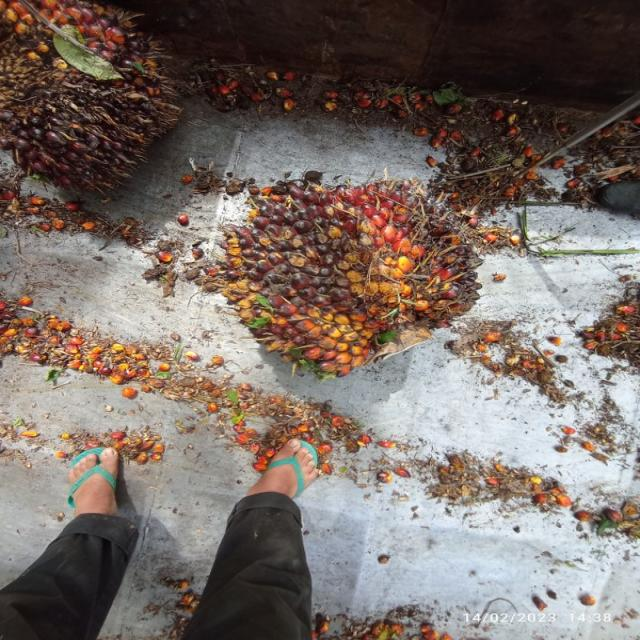fraksi 00: (0, 0, 188, 205)
fraksi 1: (218, 177, 484, 377)
